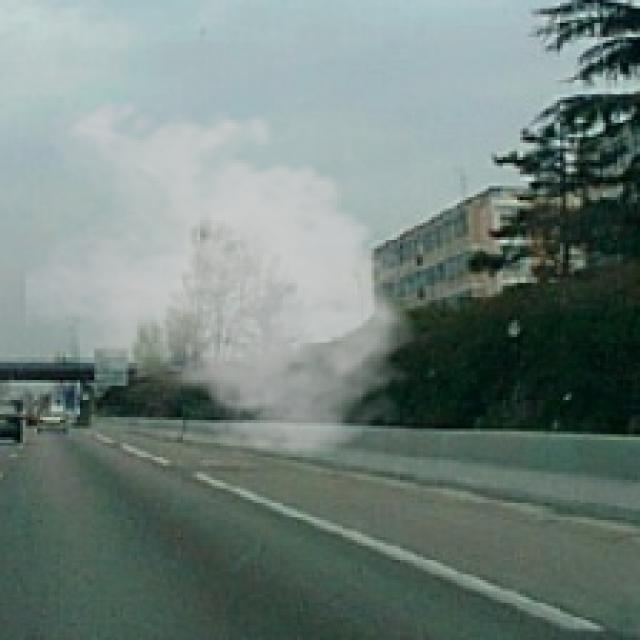Smoke: (20, 88, 429, 463)
